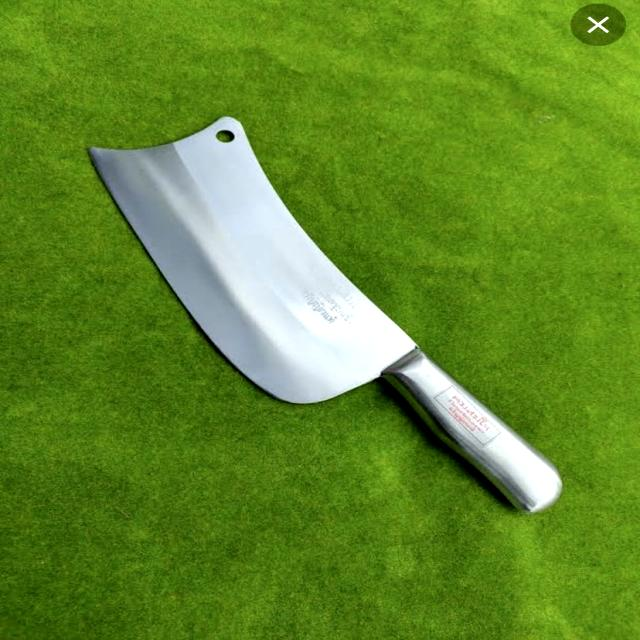knife: (77, 106, 572, 524)
